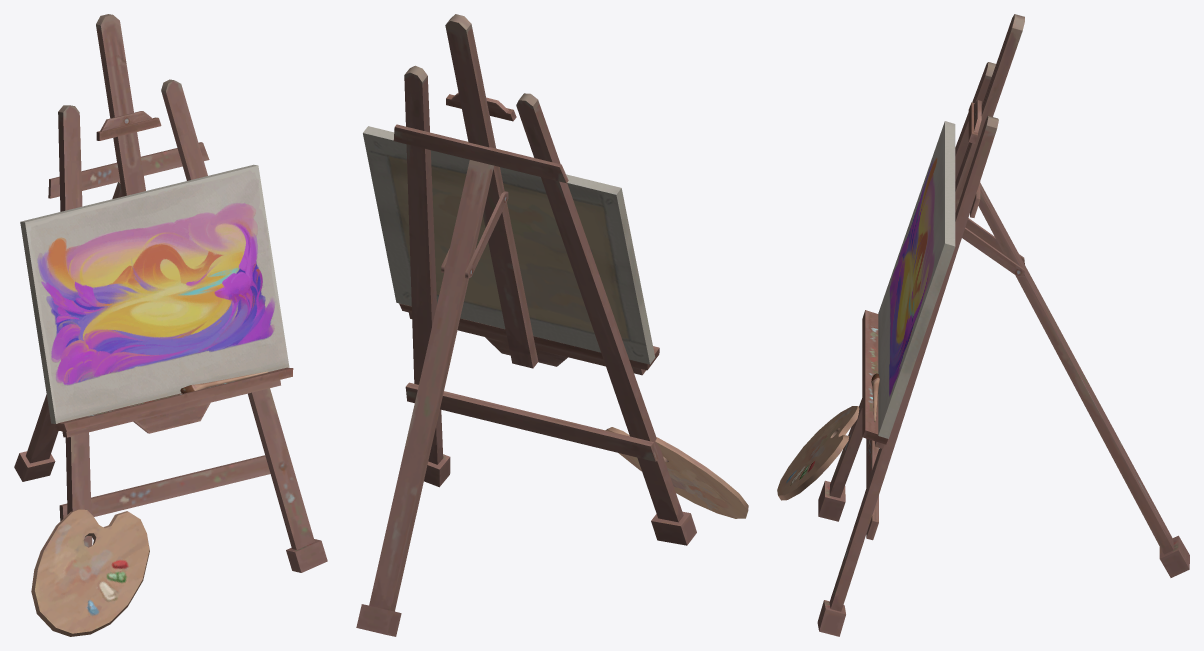
Rendered from Homeworld_Interior_Common_Thing_Prop_HuahaiBoardBlank_01_Vo.fbx.
3 renders of one model, left to right at view 1: azimuth 30°, elevation 25°; view 2: azimuth 150°, elevation 25°; view 3: azimuth 270°, elevation 25°, orthographic. The views are drawn at different scales.
Parts seen in each view (by area): view 1: Property_Ani_Prop_FlowerSeaBoardBlank_01_Vo; view 2: Property_Ani_Prop_FlowerSeaBoardBlank_01_Vo; view 3: Property_Ani_Prop_FlowerSeaBoardBlank_01_Vo.
Boxes of the visible parts, x1,y1,x2,y2 form: Property_Ani_Prop_FlowerSeaBoardBlank_01_Vo: (14,14,327,636); Property_Ani_Prop_FlowerSeaBoardBlank_01_Vo: (356,14,748,636); Property_Ani_Prop_FlowerSeaBoardBlank_01_Vo: (777,14,1189,636).
Size of the model in its own units: 1.52 by 2.55 by 1.71.
1 material, 1 textured.
